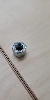Nut: (9, 39, 30, 60)
